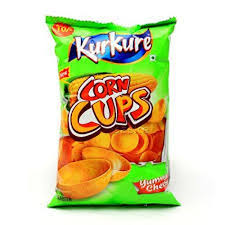kurkure: (67, 29, 155, 65)
plastic: (42, 9, 192, 215)
wrapper: (44, 13, 186, 209)
